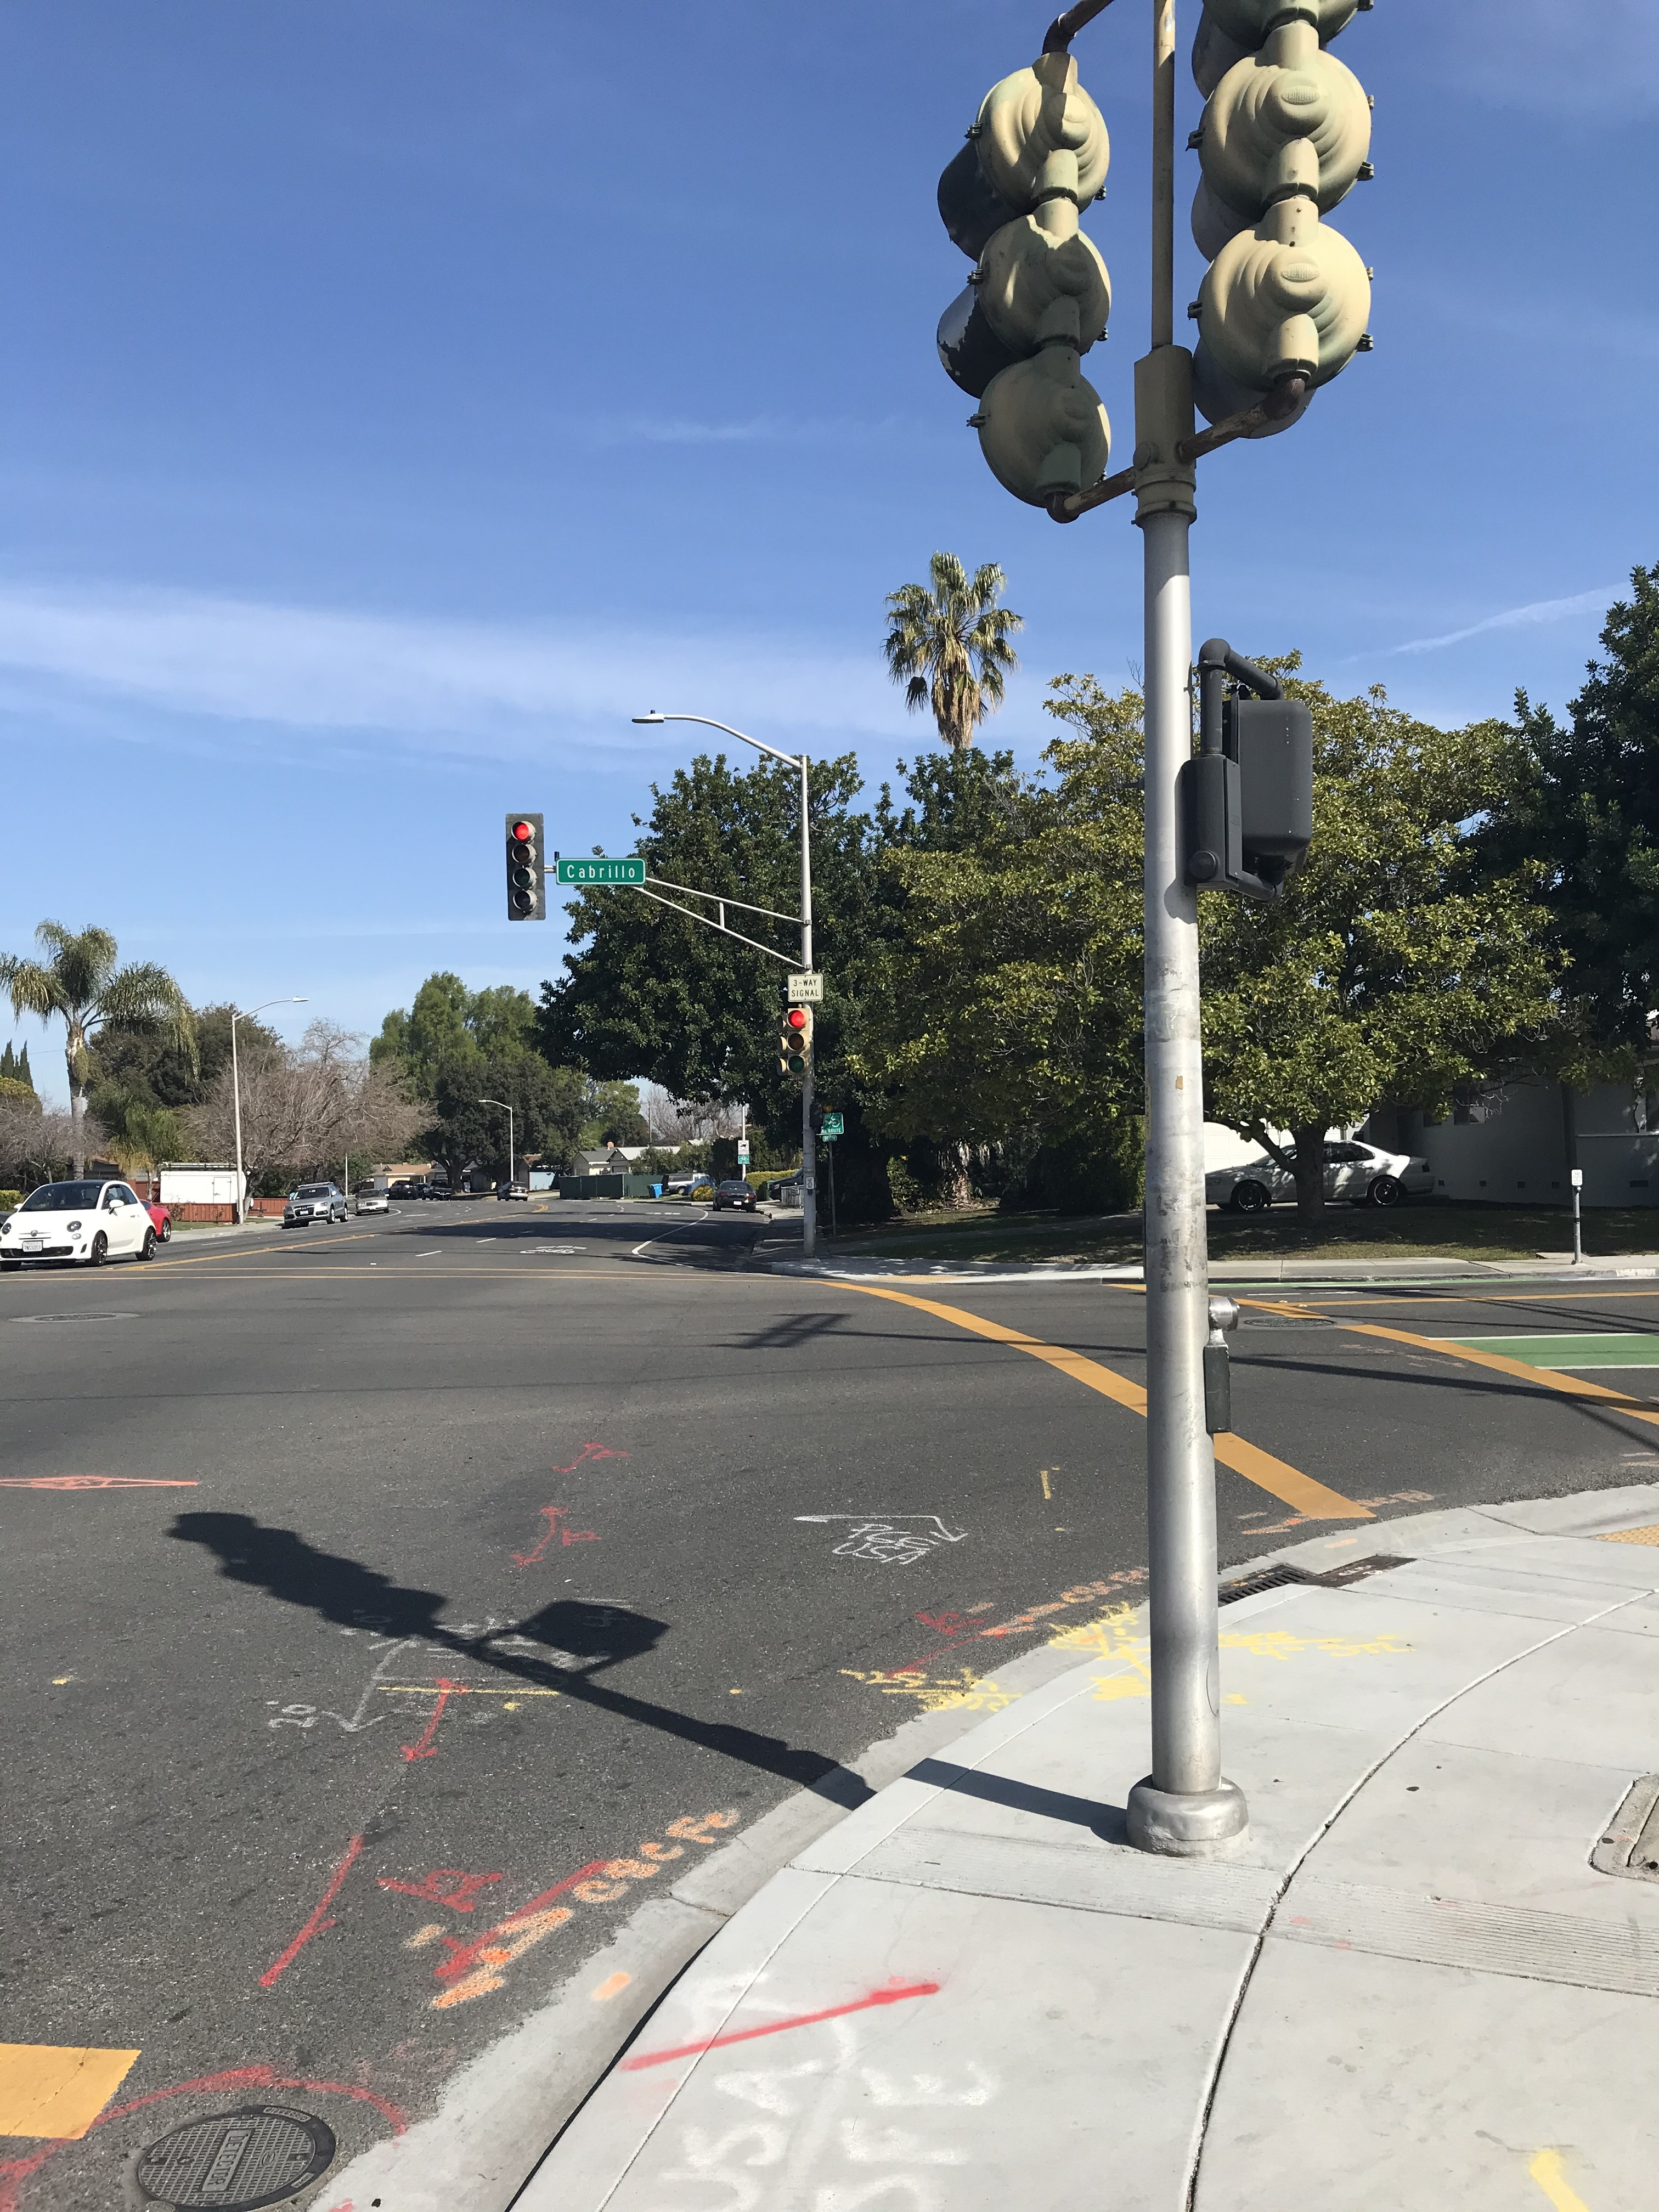red_light: (507, 813, 544, 913), (786, 1007, 814, 1075)
